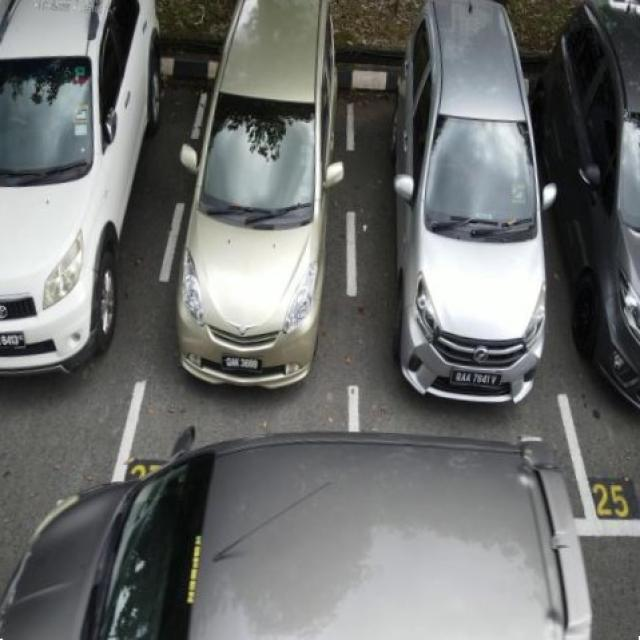Legalparking: (0, 1, 640, 430)
illegalparking: (0, 392, 640, 640)
